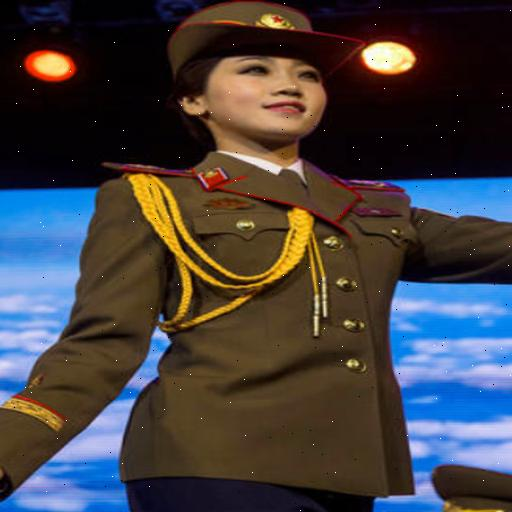north army: (97, 1, 509, 460)
